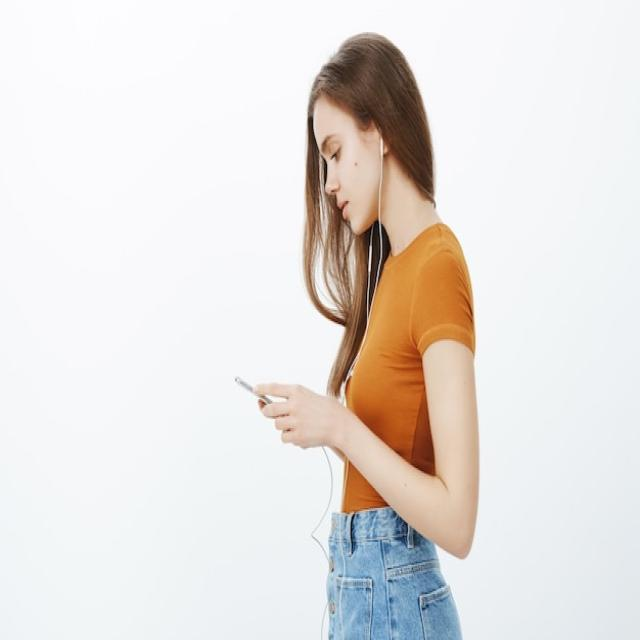Earphone: (309, 123, 383, 640)
